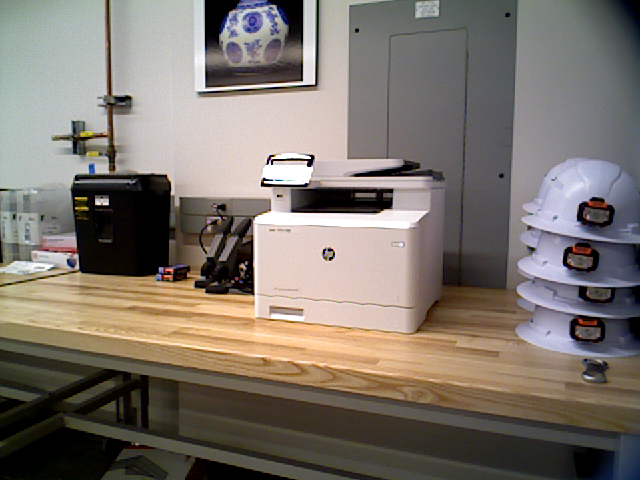painting2: (192, 1, 328, 94)
